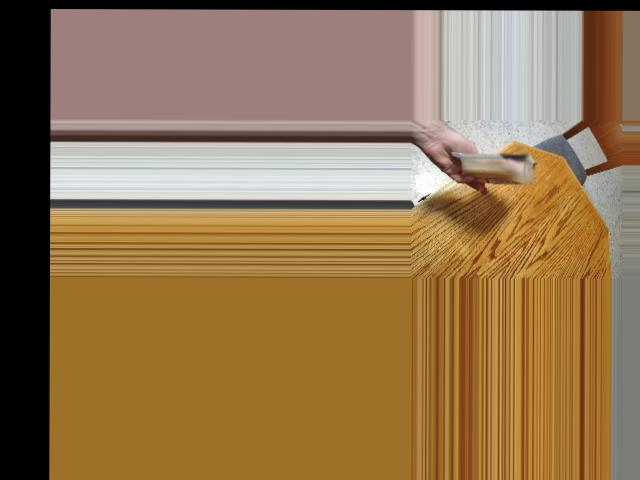cheese: (456, 137, 529, 187)
